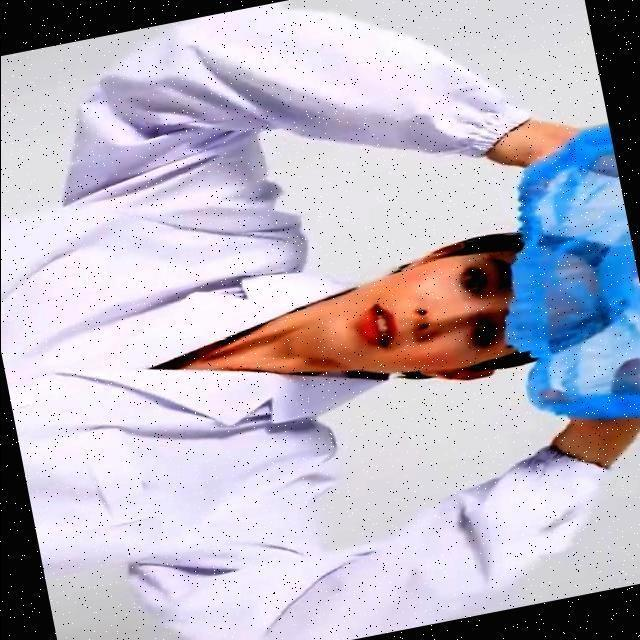gloves: (534, 170, 640, 403)
no_hairnet: (352, 288, 474, 368)
